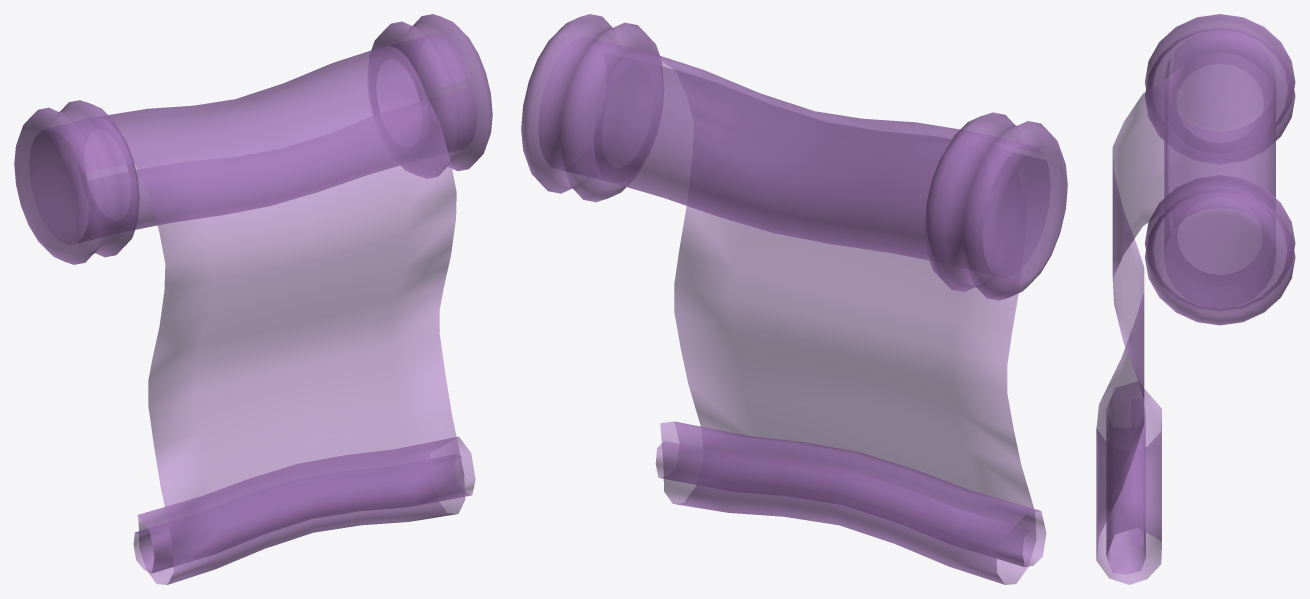
The model's file is SM_Scroll_04_Unity.fbx.
3 renders of one model, left to right at view 1: azimuth 30°, elevation 25°; view 2: azimuth 150°, elevation 25°; view 3: azimuth 270°, elevation 25°, orthographic. The views are drawn at different scales.
Parts seen in each view (by area): view 1: SM_Scrools_04_Base_low; view 2: SM_Scrools_04_Base_low; view 3: SM_Scrools_04_Base_low.
Part boxes in pixels (x1,y1,x2,y2): SM_Scrools_04_Base_low: (14,14,492,584); SM_Scrools_04_Base_low: (521,14,1067,584); SM_Scrools_04_Base_low: (1096,14,1295,584).
Size of the model in its own units: 66.6 by 68.57 by 29.64.
